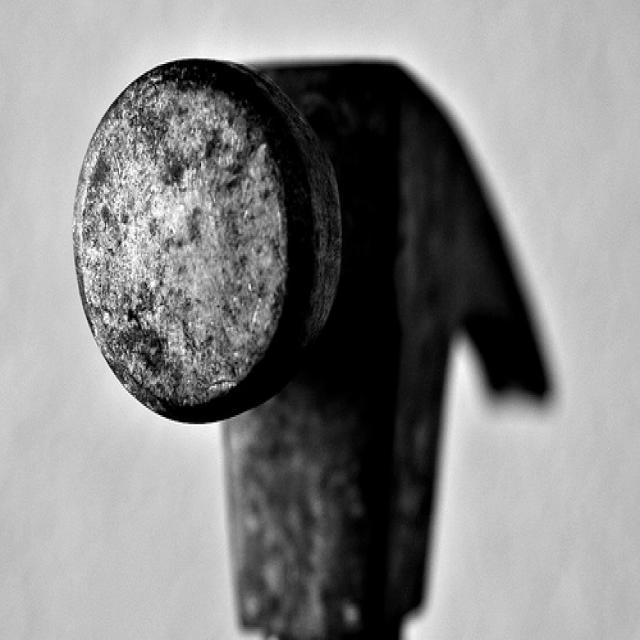hammer: (53, 36, 563, 640)
